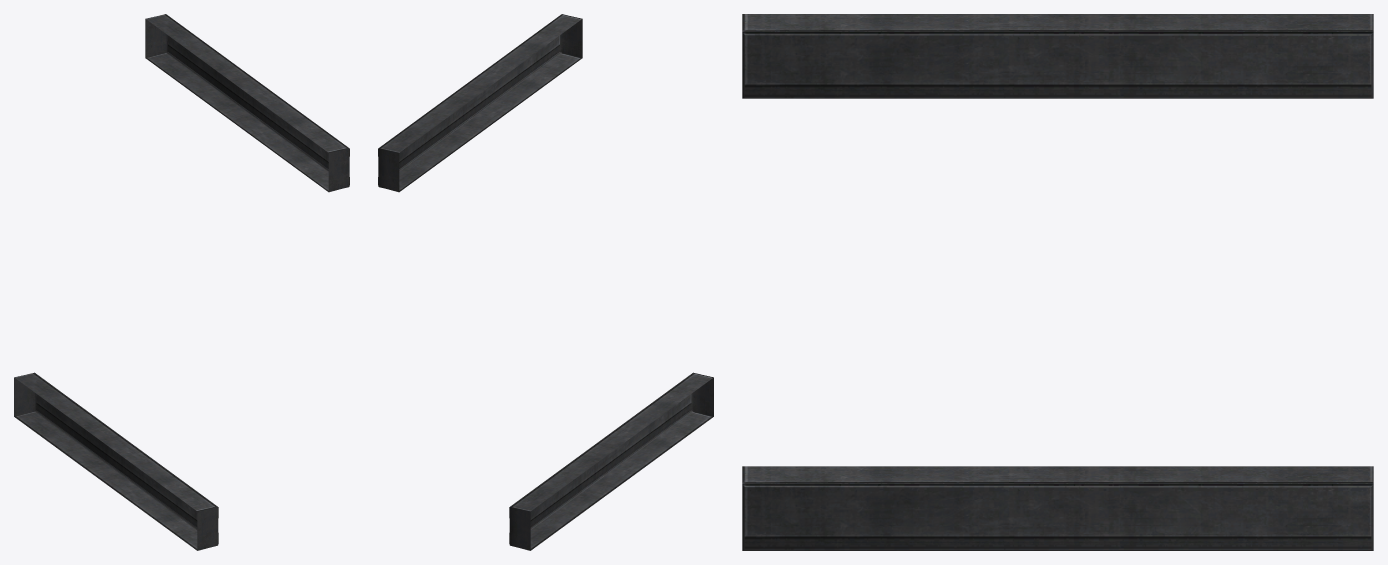
File: Neon_Wall_DecoA1.FBX
3 views of the same model, side by side, from view 1: azimuth 30°, elevation 25°; view 2: azimuth 150°, elevation 25°; view 3: azimuth 270°, elevation 25° (orthographic). The views are drawn at different scales.
Visible parts, largest first — view 1: Neon_Wall_DecoA1; view 2: Neon_Wall_DecoA1; view 3: Neon_Wall_DecoA1.
Part boxes in pixels (box(x1,y1,x2,y2)): Neon_Wall_DecoA1: box(14, 14, 349, 550); Neon_Wall_DecoA1: box(378, 14, 713, 550); Neon_Wall_DecoA1: box(742, 14, 1373, 550).
Size of the model in its own units: 3.95 by 9.02 by 8.19.
